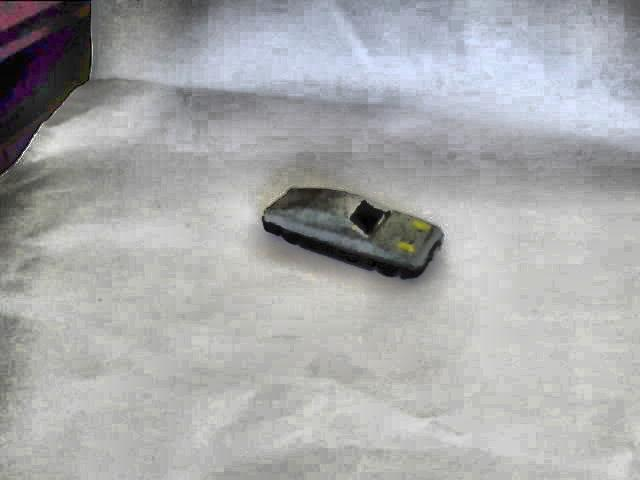normal_car: (259, 184, 445, 280)
